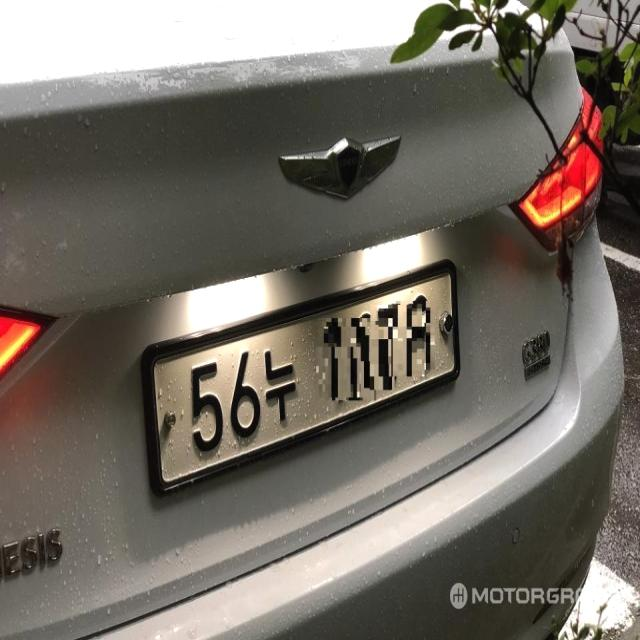illegal_plate: (140, 254, 468, 509)
